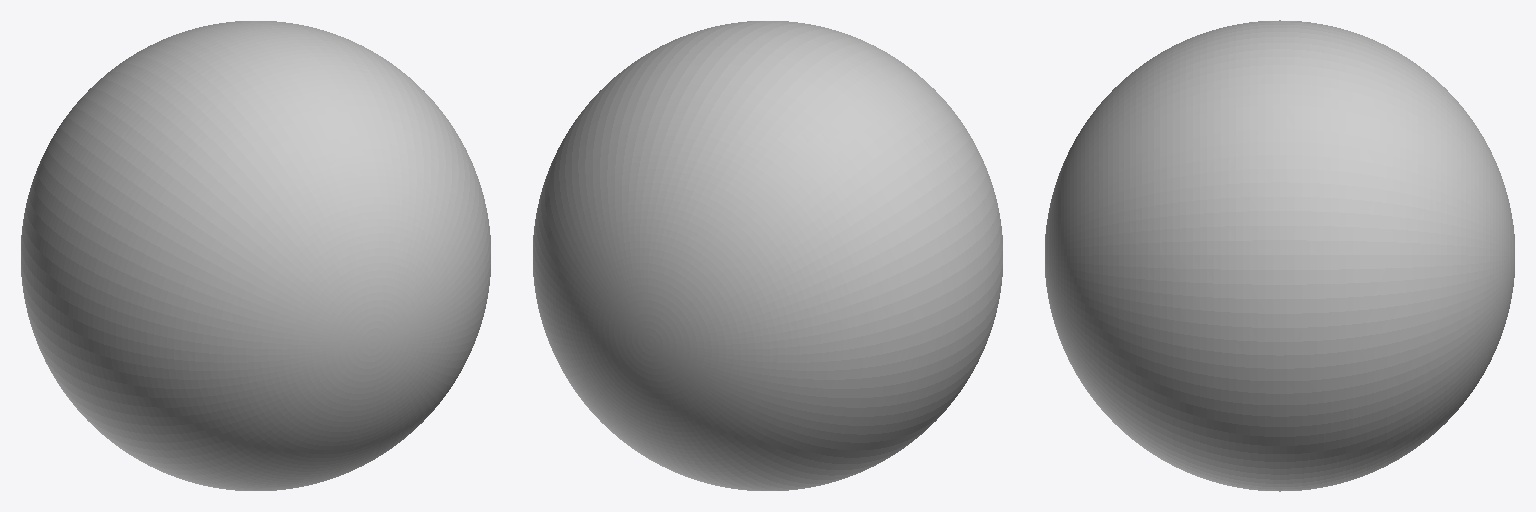
File: Venus.obj
3 renders of one model, left to right at view 1: azimuth 30°, elevation 25°; view 2: azimuth 150°, elevation 25°; view 3: azimuth 270°, elevation 25°, orthographic.
Parts seen in each view (by area): view 1: node_id42; view 2: node_id42; view 3: node_id42.
Part boxes in pixels (x1,y1,x2,y2): node_id42: (21,21,490,490); node_id42: (533,21,1002,490); node_id42: (1045,20,1514,491).
Size of the model in its own units: 0.0322 by 0.0322 by 0.0322.